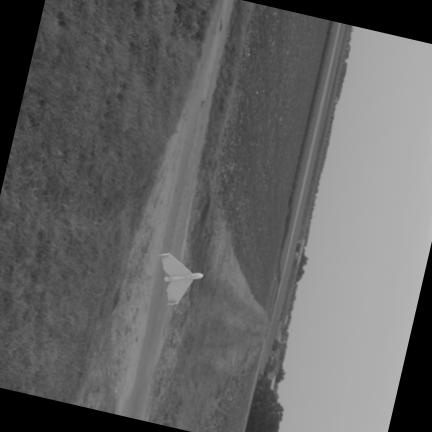Shahed: (159, 253, 202, 304)
